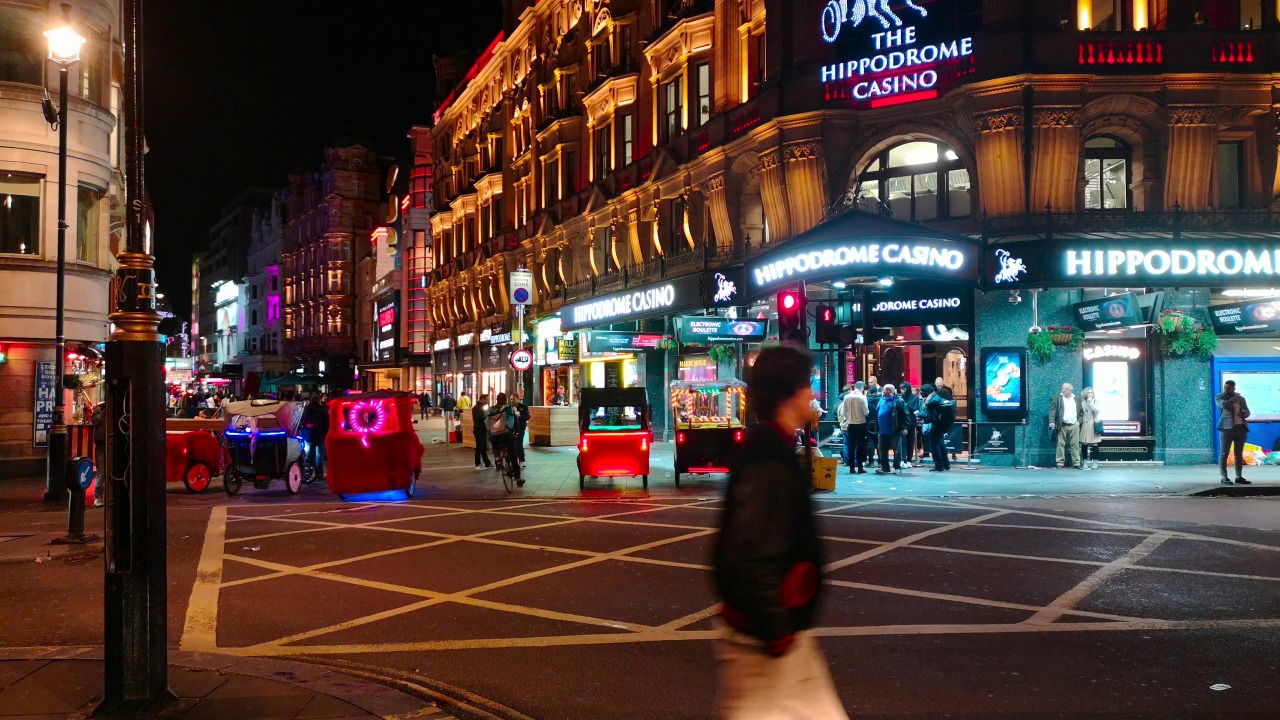car: (322, 399, 422, 503), (230, 396, 310, 498), (170, 410, 230, 503), (585, 392, 637, 491), (673, 393, 731, 474)
person: (742, 349, 831, 720), (1213, 364, 1262, 484), (1050, 374, 1075, 467), (918, 386, 942, 470), (461, 399, 488, 467), (491, 401, 515, 472), (1082, 381, 1102, 465), (848, 384, 862, 461), (849, 384, 860, 474), (519, 386, 531, 460), (887, 387, 895, 464), (934, 364, 952, 396)
